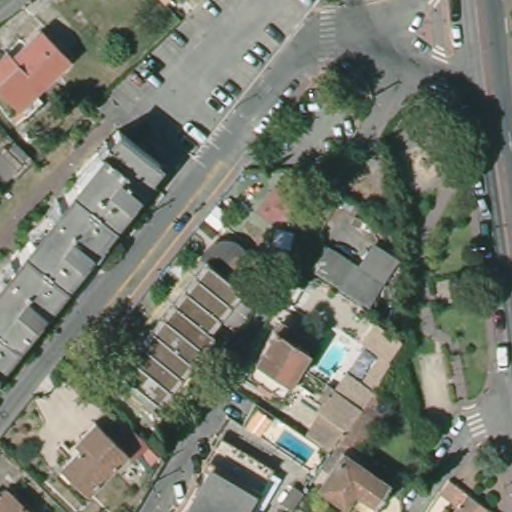pool: (278, 426, 320, 463), (318, 340, 349, 379)
